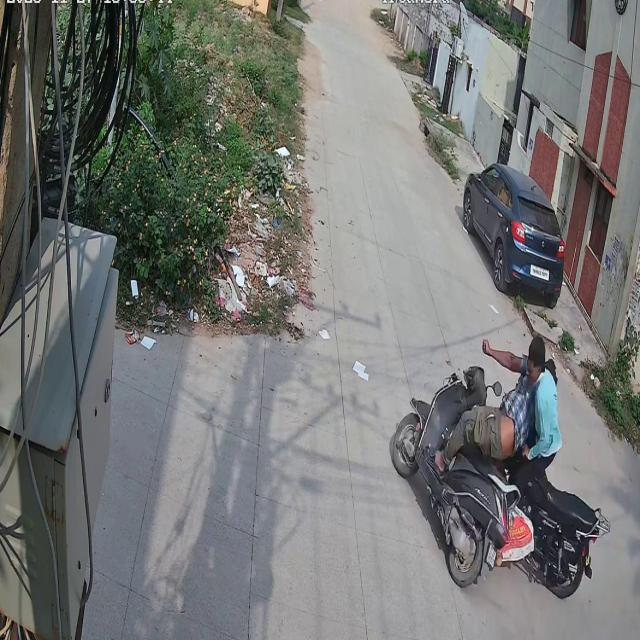accident: (388, 314, 616, 622)
